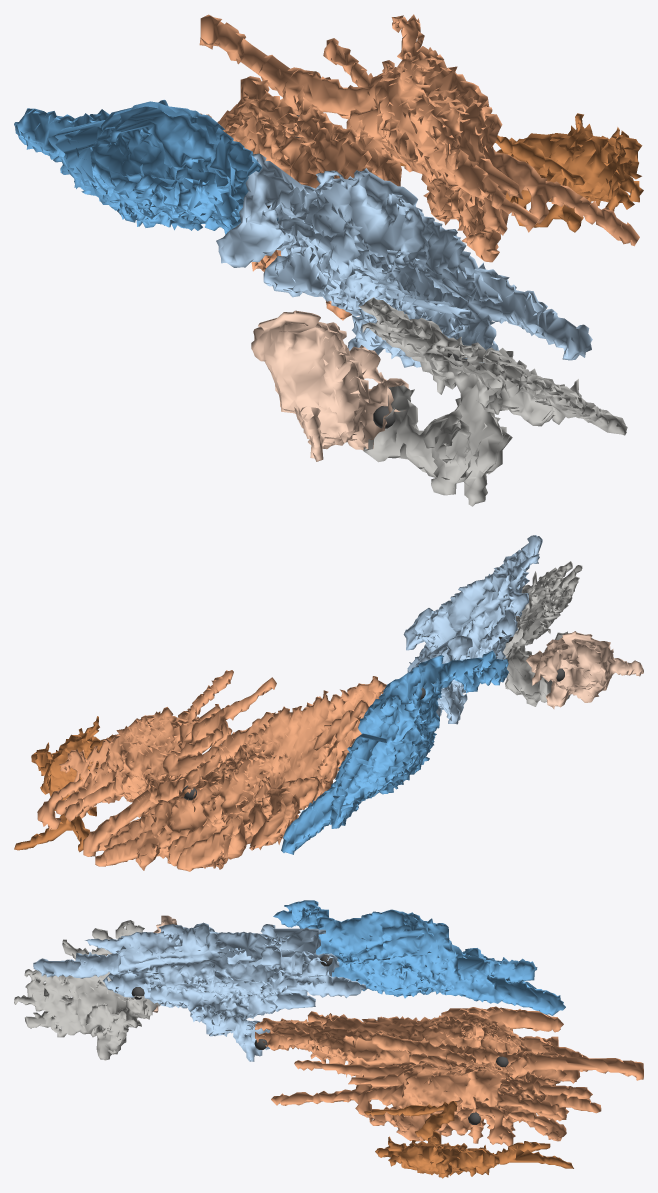
The model's file is sample_1_3_group_1.glb.
3 renders of one model, top to bottom at view 1: azimuth 30°, elevation 25°; view 2: azimuth 150°, elevation 25°; view 3: azimuth 270°, elevation 25°, orthographic. The views are drawn at different scales.
Visible parts, largest first — view 1: osteocyte_83_elongated, osteocyte_42_round, osteocyte_75_elongated, osteocyte_29_untyped, osteocyte_46_round, osteocyte_27_round, osteocyte_20_round; view 2: osteocyte_27_round, osteocyte_42_round, osteocyte_75_elongated, osteocyte_83_elongated, osteocyte_46_round, osteocyte_29_untyped, osteocyte_20_round; view 3: osteocyte_83_elongated, osteocyte_42_round, osteocyte_75_elongated, osteocyte_27_round, osteocyte_29_untyped, osteocyte_20_round.
Part boxes in pixels (bbox=[...]): osteocyte_83_elongated: bbox=[216, 153, 592, 367]; osteocyte_42_round: bbox=[199, 14, 639, 262]; osteocyte_75_elongated: bbox=[14, 99, 278, 234]; osteocyte_29_untyped: bbox=[359, 297, 627, 506]; osteocyte_46_round: bbox=[251, 310, 409, 461]; osteocyte_27_round: bbox=[200, 76, 377, 320]; osteocyte_20_round: bbox=[400, 113, 643, 232]; osteocyte_27_round: bbox=[95, 676, 386, 871]; osteocyte_42_round: bbox=[37, 670, 276, 856]; osteocyte_75_elongated: bbox=[281, 650, 508, 854]; osteocyte_83_elongated: bbox=[397, 535, 542, 724]; osteocyte_46_round: bbox=[526, 631, 643, 709]; osteocyte_29_untyped: bbox=[503, 561, 582, 706]; osteocyte_20_round: bbox=[14, 711, 160, 852]; osteocyte_83_elongated: bbox=[33, 922, 366, 1061]; osteocyte_42_round: bbox=[271, 1032, 643, 1146]; osteocyte_75_elongated: bbox=[273, 900, 565, 1015]; osteocyte_27_round: bbox=[255, 1006, 601, 1135]; osteocyte_29_untyped: bbox=[14, 920, 160, 1060]; osteocyte_20_round: bbox=[364, 1101, 573, 1178].
Bounding box in the file's own units: 74.97 × 25.68 × 114.
